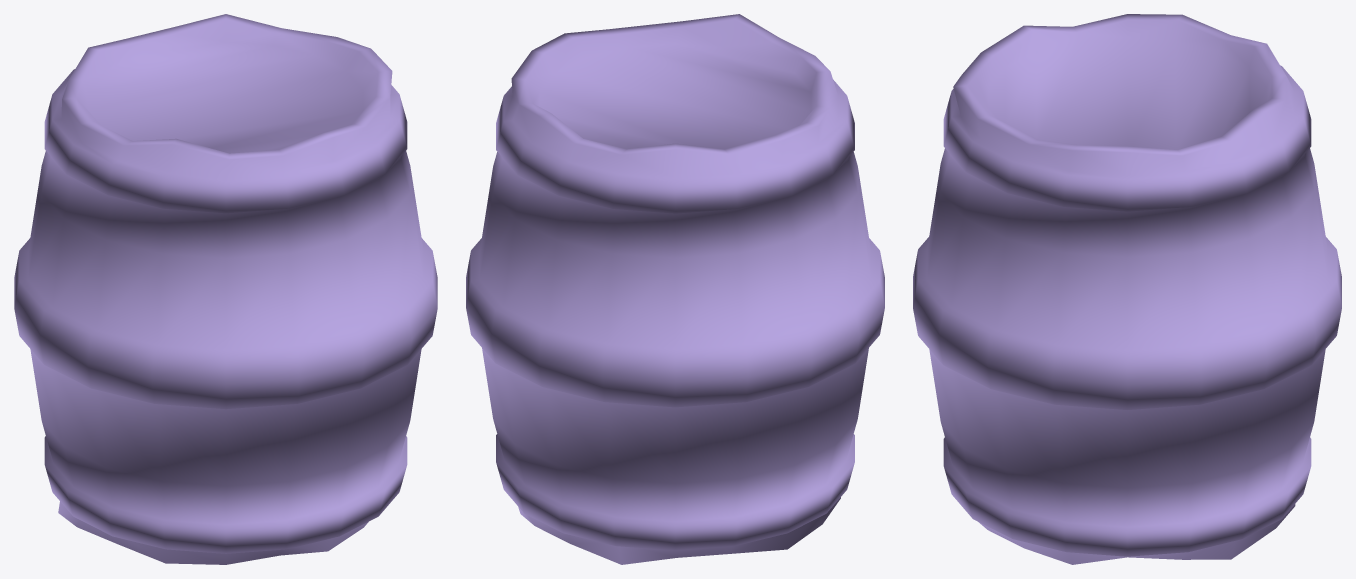
The model's file is DWBarrel_Model.fbx.
3 views of the same model, side by side, from view 1: azimuth 30°, elevation 25°; view 2: azimuth 150°, elevation 25°; view 3: azimuth 270°, elevation 25° (orthographic). The views are drawn at different scales.
Visible parts, largest first — view 1: DWBarrel; view 2: DWBarrel; view 3: DWBarrel.
Boxes of the visible parts, <box> form: DWBarrel: <box>14,14,437,564</box>; DWBarrel: <box>466,14,884,564</box>; DWBarrel: <box>913,14,1341,564</box>.
Bounding box in the file's own units: 13.33 × 14.56 × 13.13.
